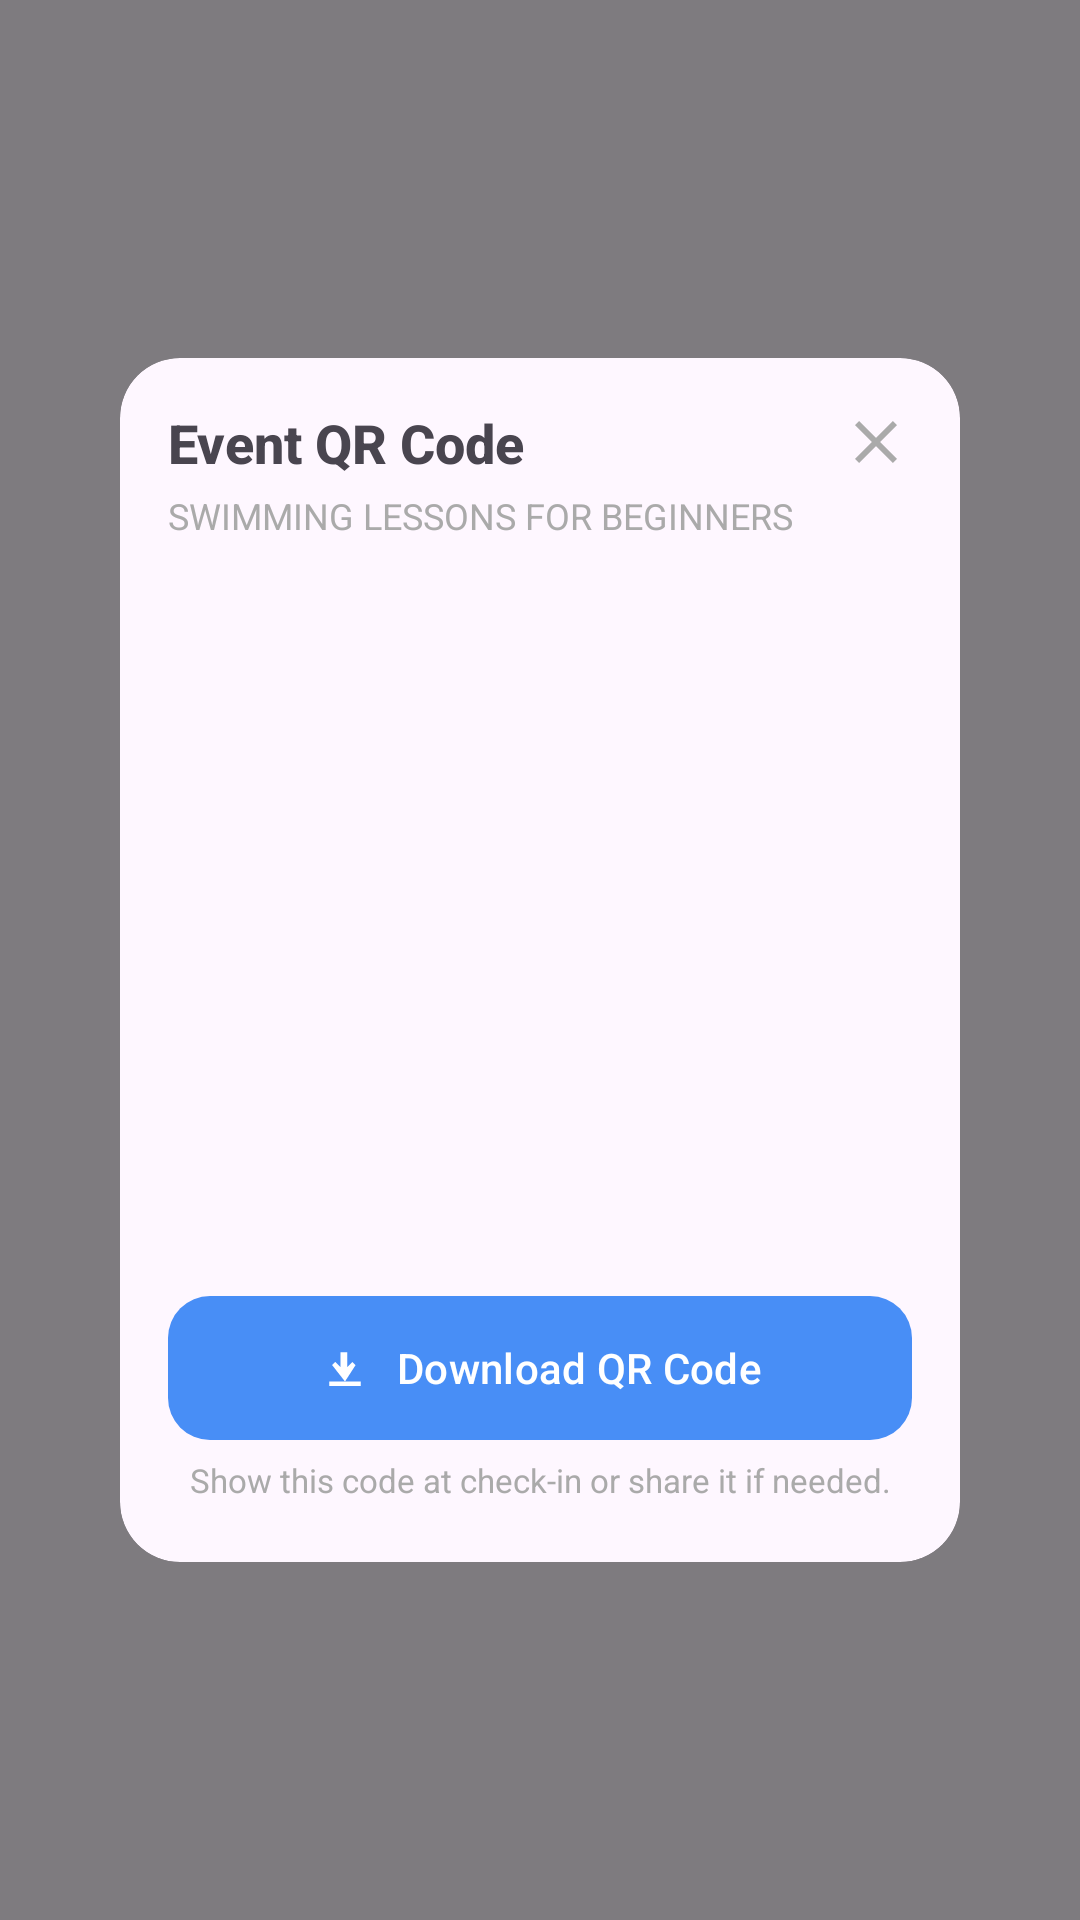

Where to tap for icons on this 1080px×1920px app screen, as point (x, y):
Close: point (876, 442)
